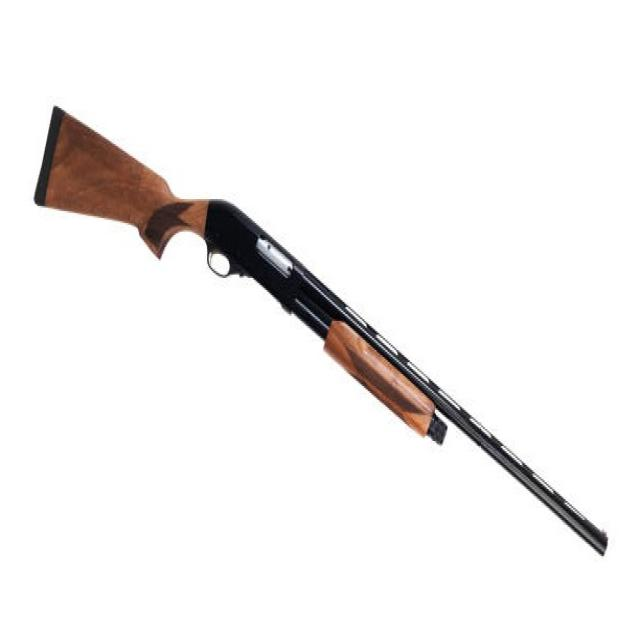rifle: (29, 101, 613, 579)
